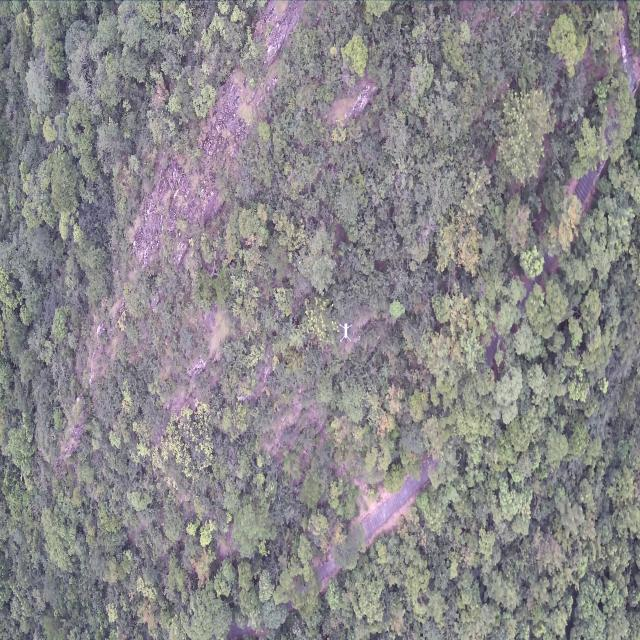UAV: (339, 322, 352, 344)
